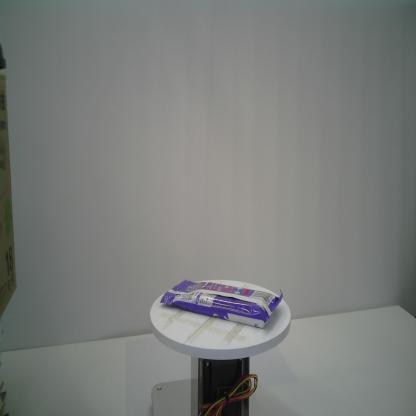Candy: (160, 278, 284, 329)
